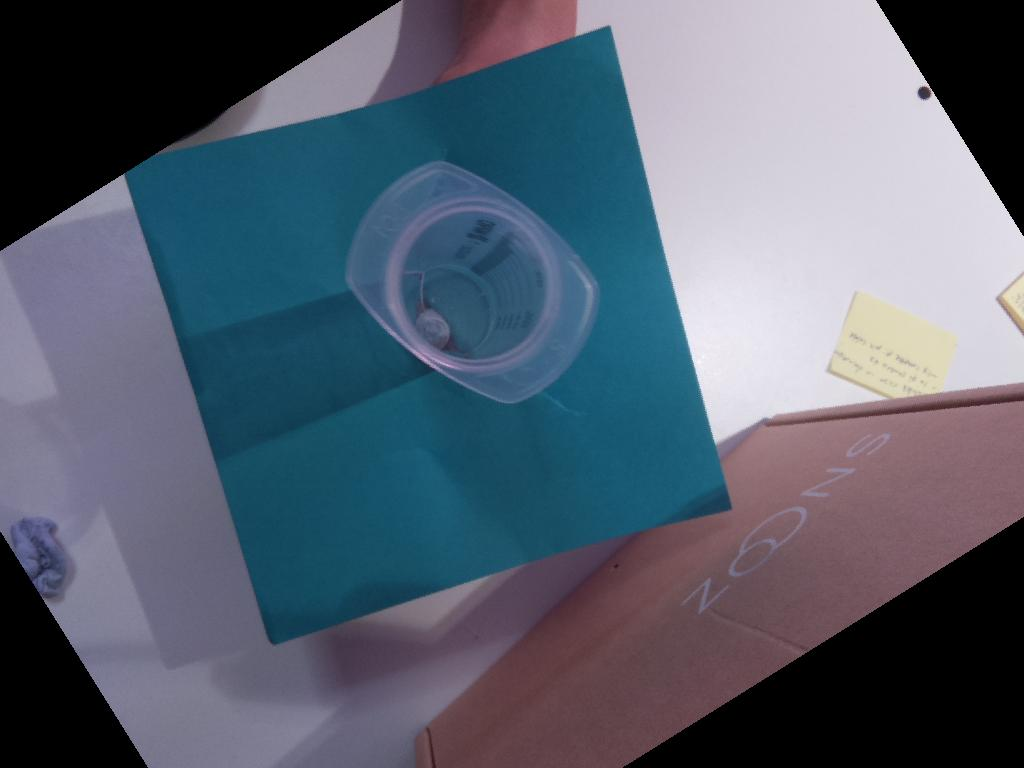clean: (341, 158, 601, 406)
